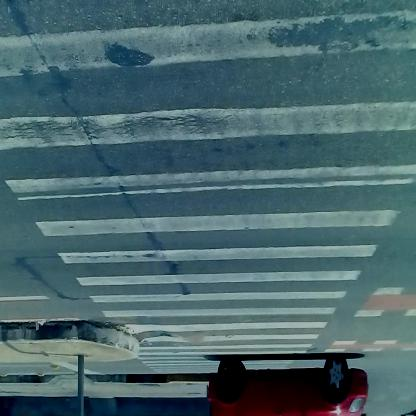crosswalk: (65, 2, 361, 357)
sidewalk: (5, 371, 203, 396)
